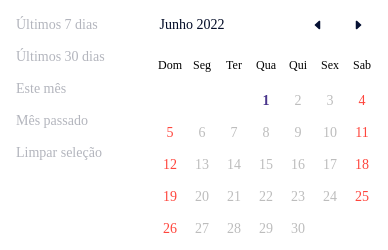
<RangeCalendar /> › should select the previous month
Click the button "Mês passado".
click(74, 121)  # box [8,105,141,137]
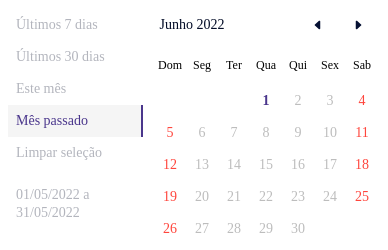
Now the text "01/05/2022 a 31/05/2022" is shown, box [16,187,90,220]
